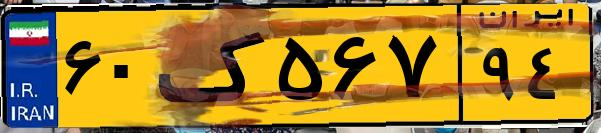0: (110, 28, 158, 98)
4: (525, 38, 570, 115)
5: (270, 28, 330, 110)
6: (330, 28, 385, 110), (57, 26, 110, 100)
7: (385, 28, 445, 110)
9: (475, 38, 525, 113)
ک: (158, 12, 270, 120)
